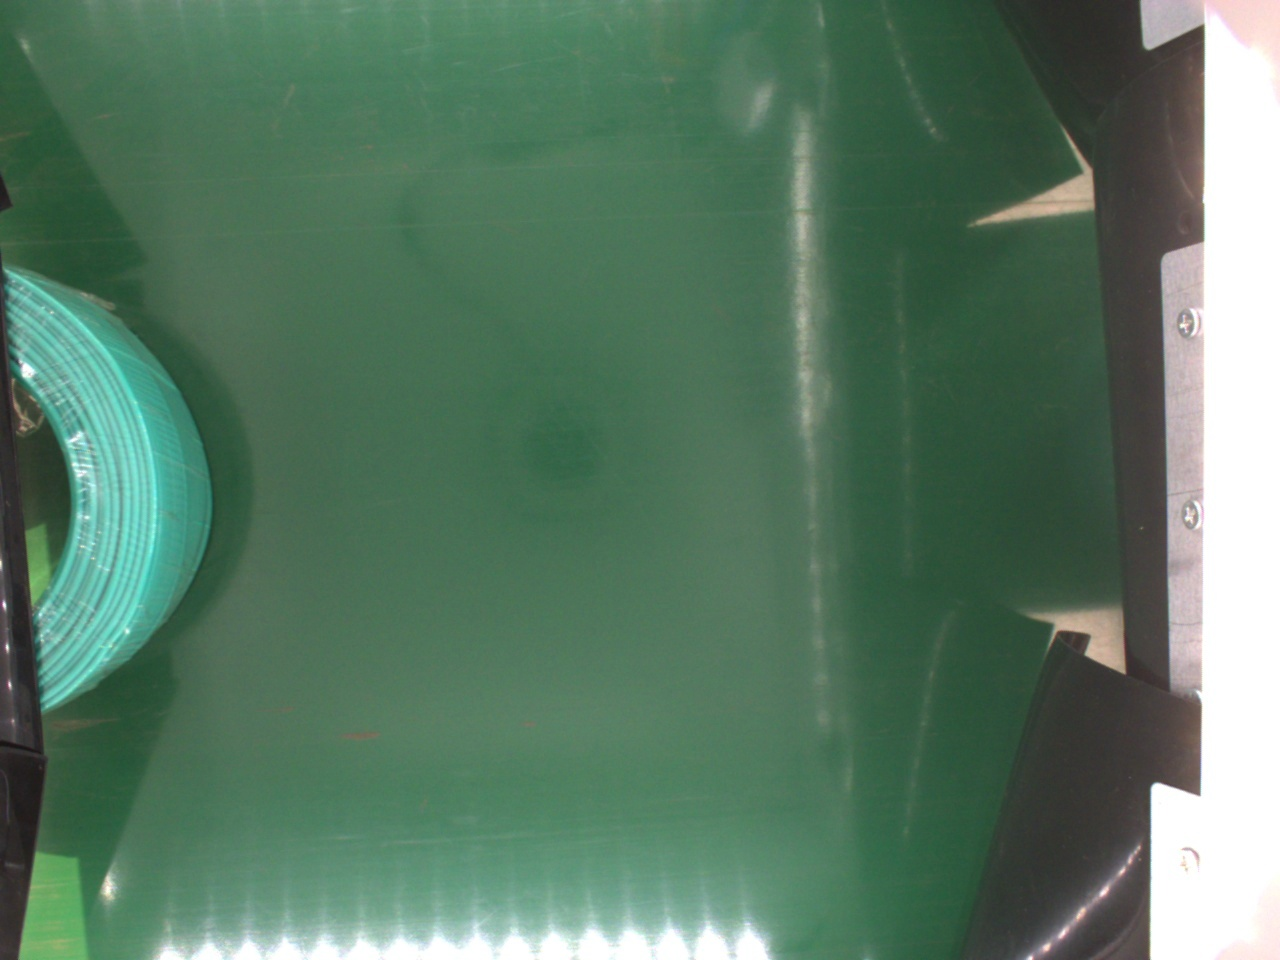green: (3, 266, 215, 709)
